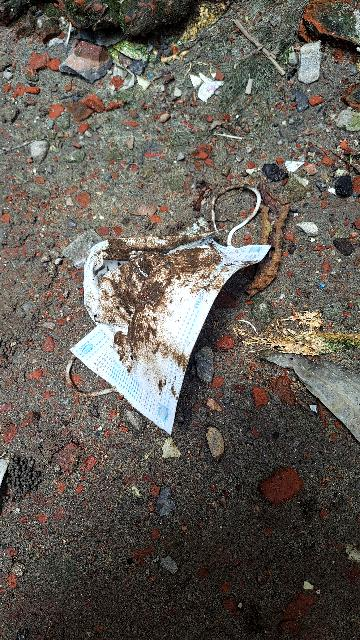mask: (57, 154, 289, 441)
